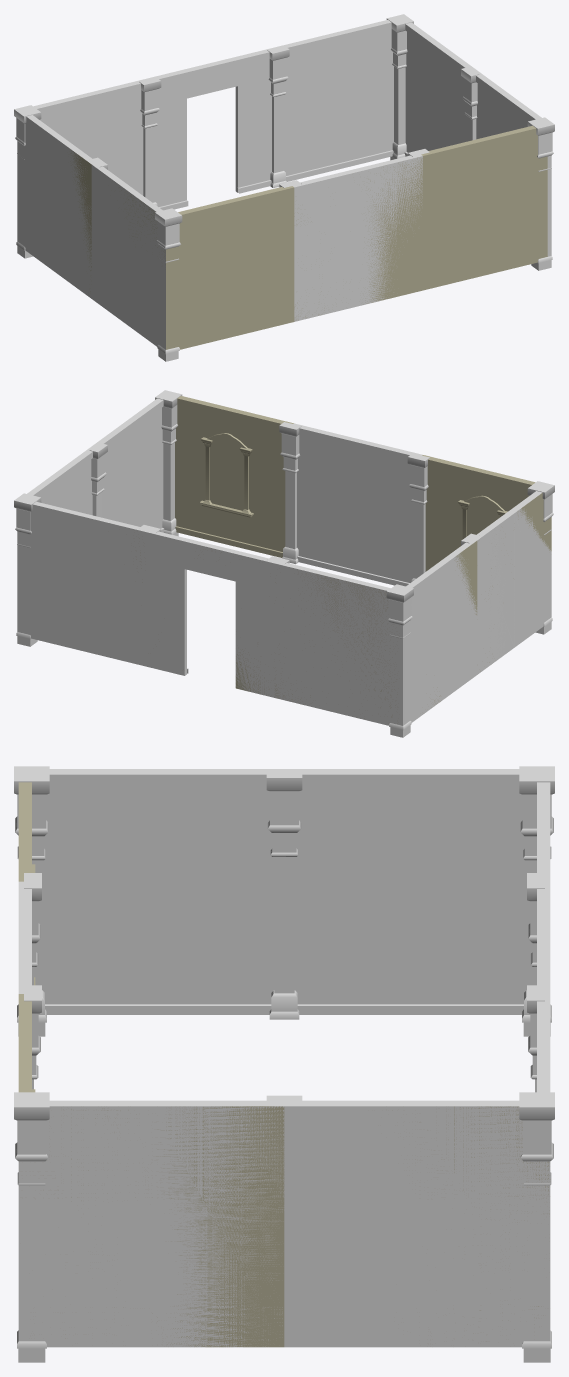
The model's file is Homeworld_Interior_Md_Room_B_Wall_01_Vo.fbx.
The picture shows the model from 3 angles, top to bottom: view 1: azimuth 30°, elevation 25°; view 2: azimuth 150°, elevation 25°; view 3: azimuth 270°, elevation 25°; orthographic projection. The views are drawn at different scales.
Parts seen in each view (by area): view 1: Homeworld_Interior_Md_Room_Wall_01_Vo (×7), Homeworld_Interior_Md_Room_B_Filling_01_Vo, Homeworld_Interior_Md_Room_Wall_06_Vo, Homeworld_Interior_Md_Room_Wall_03_Vo (×2), Homeworld_Interior_Md_Room_Pillar_01_Vo (×4), Homeworld_Interior_Md_Room_Pillar_02_Vo (×3); view 2: Homeworld_Interior_Md_Room_Wall_01_Vo (×7), Homeworld_Interior_Md_Room_Wall_03_Vo (×2), Homeworld_Interior_Md_Room_Wall_06_Vo, Homeworld_Interior_Md_Room_Pillar_01_Vo (×4), Homeworld_Interior_Md_Room_Pillar_02_Vo (×3), Homeworld_Interior_Md_Room_B_Filling_01_Vo; view 3: Homeworld_Interior_Md_Room_Wall_01_Vo (×7), Homeworld_Interior_Md_Room_B_Filling_01_Vo, Homeworld_Interior_Md_Room_Pillar_01_Vo (×4), Homeworld_Interior_Md_Room_Pillar_02_Vo (×5), Homeworld_Interior_Md_Room_Wall_03_Vo (×2), Homeworld_Interior_Md_Room_Wall_06_Vo.
Part boxes in pixels (bbox=[...]): Homeworld_Interior_Md_Room_Wall_01_Vo (×7): bbox=[17, 20, 551, 349]; Homeworld_Interior_Md_Room_B_Filling_01_Vo: bbox=[70, 128, 547, 349]; Homeworld_Interior_Md_Room_Wall_06_Vo: bbox=[146, 47, 275, 210]; Homeworld_Interior_Md_Room_Wall_03_Vo (×2): bbox=[178, 125, 535, 308]; Homeworld_Interior_Md_Room_Pillar_01_Vo (×4): bbox=[14, 14, 554, 361]; Homeworld_Interior_Md_Room_Pillar_02_Vo (×3): bbox=[139, 46, 479, 205]; Homeworld_Interior_Md_Room_Wall_01_Vo (×7): bbox=[17, 398, 551, 725]; Homeworld_Interior_Md_Room_Wall_03_Vo (×2): bbox=[175, 396, 535, 571]; Homeworld_Interior_Md_Room_Wall_06_Vo: bbox=[146, 530, 275, 697]; Homeworld_Interior_Md_Room_Pillar_01_Vo (×4): bbox=[14, 390, 554, 737]; Homeworld_Interior_Md_Room_Pillar_02_Vo (×3): bbox=[89, 422, 429, 581]; Homeworld_Interior_Md_Room_B_Filling_01_Vo: bbox=[136, 493, 551, 723]; Homeworld_Interior_Md_Room_Wall_01_Vo (×7): bbox=[18, 769, 550, 1347]; Homeworld_Interior_Md_Room_B_Filling_01_Vo: bbox=[43, 1106, 550, 1347]; Homeworld_Interior_Md_Room_Pillar_01_Vo (×4): bbox=[14, 766, 554, 1362]; Homeworld_Interior_Md_Room_Pillar_02_Vo (×5): bbox=[24, 770, 544, 1092]; Homeworld_Interior_Md_Room_Wall_03_Vo (×2): bbox=[18, 782, 35, 1092]; Homeworld_Interior_Md_Room_Wall_06_Vo: bbox=[537, 881, 550, 993].
Size of what is drawn, in the model's own units: 15.17 by 5.34 by 10.17.
